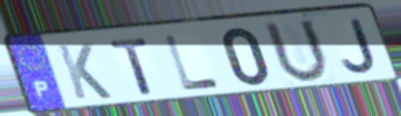0: (220, 25, 272, 88)
J: (339, 17, 379, 75)
K: (53, 41, 115, 101)
L: (161, 33, 223, 93)
T: (107, 36, 157, 97)
U: (260, 17, 332, 86)
